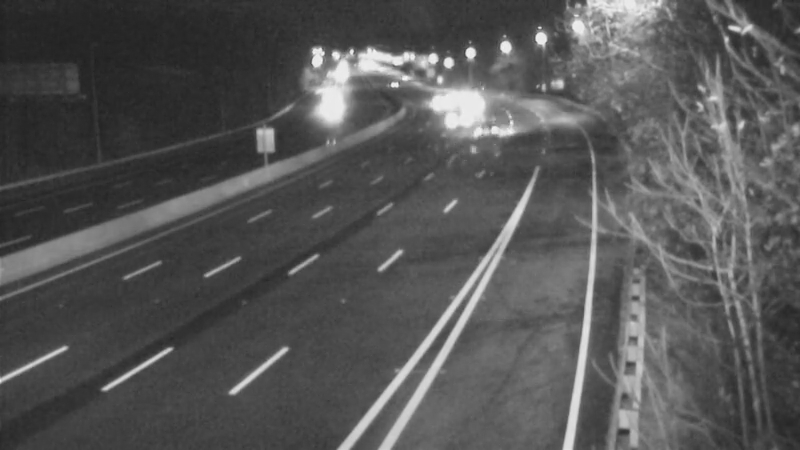vehicle: (433, 68, 483, 118), (417, 75, 467, 125), (445, 83, 495, 133), (436, 95, 486, 145), (462, 109, 512, 159), (299, 86, 349, 136)
